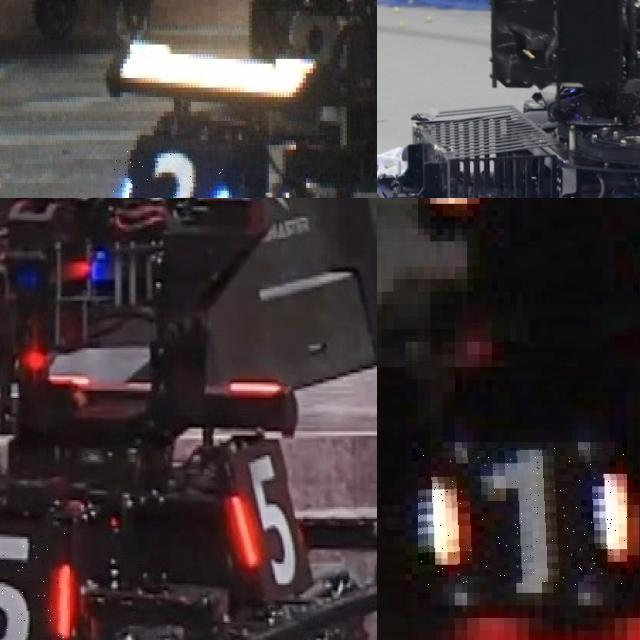B3: (111, 149, 231, 198)
R1: (418, 448, 627, 586)
R5: (0, 532, 69, 640)
